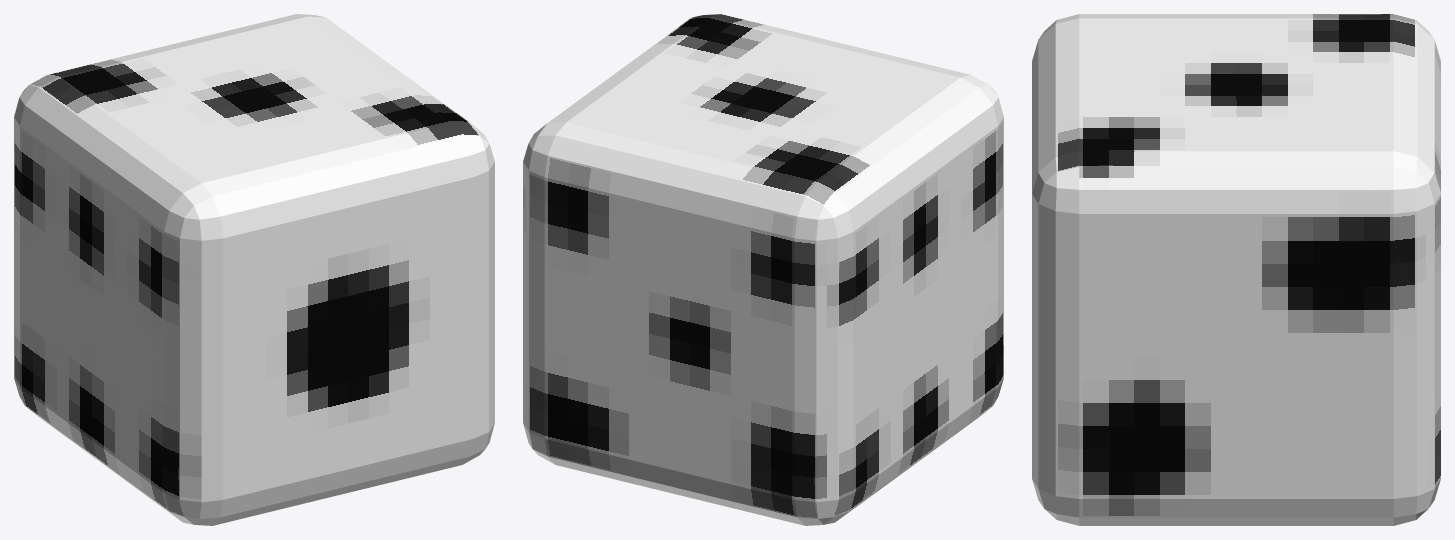
File: die.glb
3 views of the same model, side by side, from view 1: azimuth 30°, elevation 25°; view 2: azimuth 150°, elevation 25°; view 3: azimuth 270°, elevation 25° (orthographic). The views are drawn at different scales.
Parts seen in each view (by area): view 1: Cube; view 2: Cube; view 3: Cube.
Part boxes in pixels (bbox=[...]): Cube: bbox=[14, 14, 494, 525]; Cube: bbox=[523, 14, 1003, 525]; Cube: bbox=[1032, 14, 1440, 525].
Size of the model in its own units: 2 by 2 by 2.
1 material, 1 textured.
